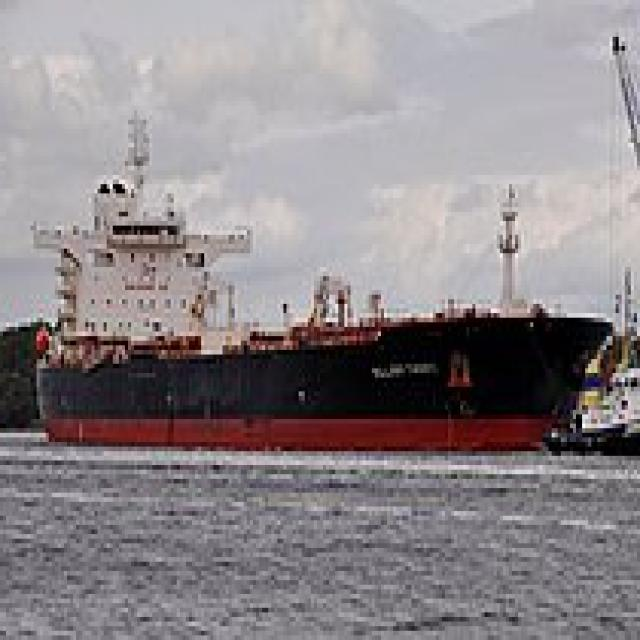Tanker: (31, 106, 618, 442)
